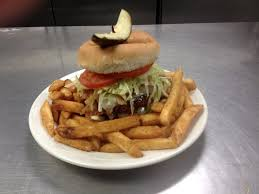hamburger: (78, 22, 165, 115)
